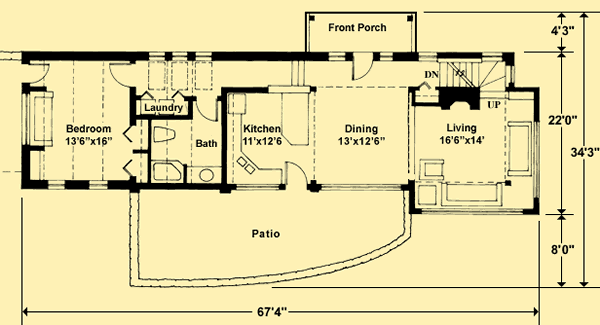bathroom which has a tub, small and large sink: (143, 54, 227, 187)
kitchen and dining room are colocated and has sink and dining counter: (224, 85, 410, 190)
large patio outside: (127, 187, 410, 291)
livingroom has two large sofas and small sofa, coffe table: (407, 91, 543, 215)
stairs to the other floors: (421, 52, 520, 92)
